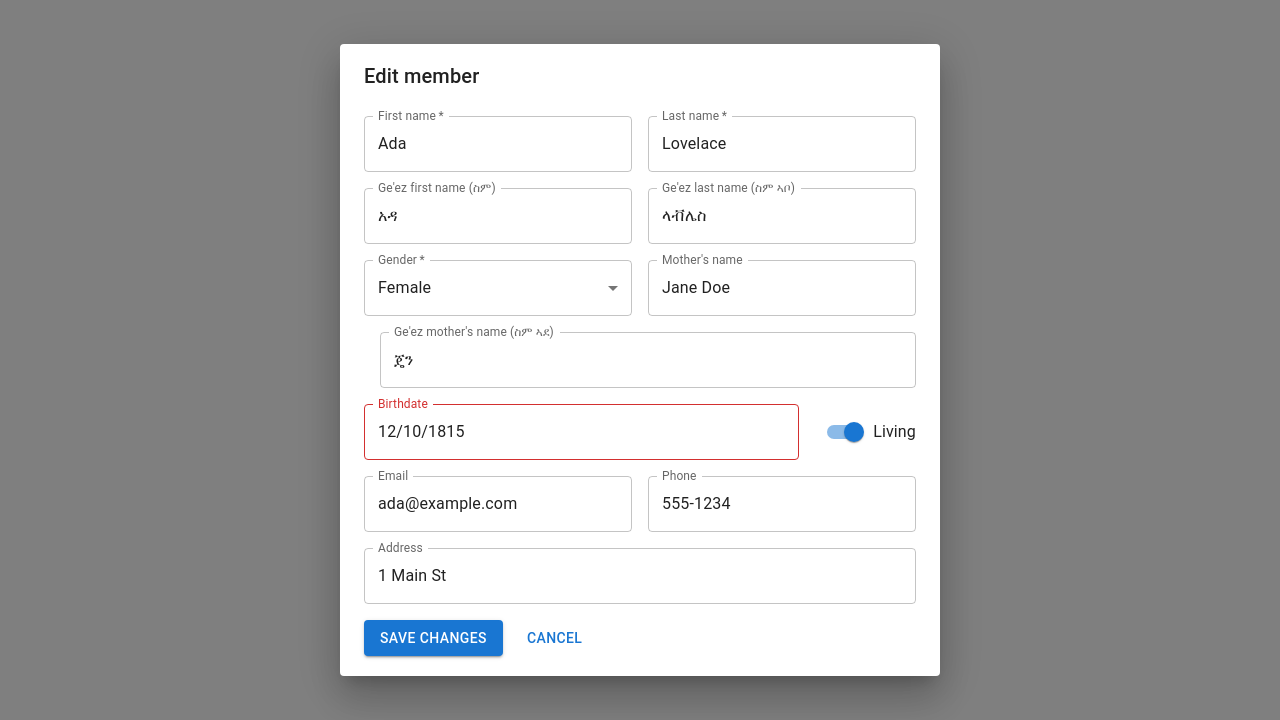
it: EditMemberDialog › renders the mutation error and keeps the dialog open on rejection
Click the button "Save changes" at [433, 638], box [364,620,503,656]
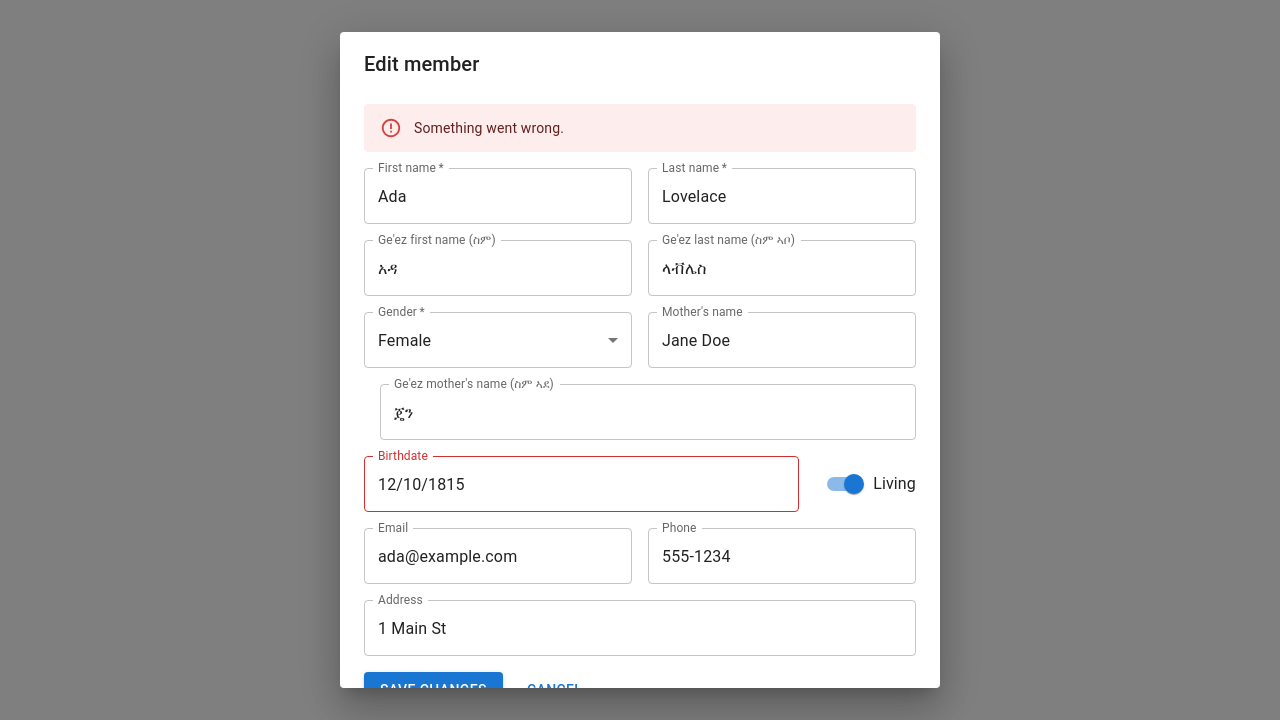
expect the message reads "Something went wrong.": met, box [414,120,564,136]
